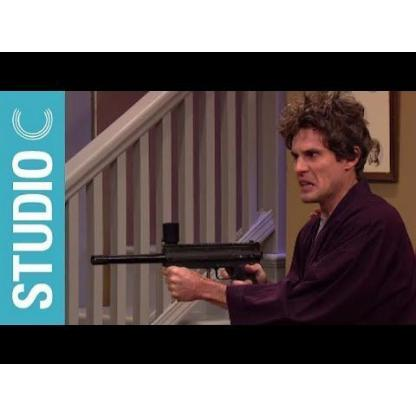gun: (82, 225, 266, 306)
